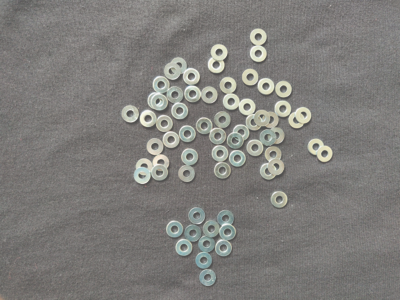circle: (140, 110, 157, 128), (239, 99, 257, 116), (167, 86, 184, 104), (250, 29, 268, 46), (134, 168, 151, 185), (136, 159, 153, 176), (153, 155, 170, 172), (167, 221, 184, 238), (176, 240, 193, 257), (147, 139, 164, 156), (200, 270, 217, 287), (196, 253, 213, 270), (185, 225, 202, 242), (189, 208, 206, 225), (179, 166, 196, 183), (182, 149, 199, 166), (163, 132, 180, 149), (180, 126, 197, 143), (212, 146, 229, 163), (230, 150, 247, 167), (271, 192, 288, 209), (122, 106, 139, 123), (172, 103, 189, 120), (247, 140, 264, 157), (254, 110, 271, 127), (246, 114, 263, 131), (233, 125, 250, 142), (223, 94, 240, 111), (220, 77, 237, 94), (208, 57, 225, 74), (211, 44, 228, 61), (201, 87, 218, 104), (184, 69, 201, 86), (164, 63, 181, 80), (151, 94, 168, 111), (148, 93, 165, 110), (153, 77, 170, 94), (275, 101, 292, 118), (276, 81, 293, 98), (243, 69, 260, 86), (151, 165, 169, 181), (265, 147, 283, 163), (250, 46, 268, 62), (199, 236, 215, 253), (204, 221, 220, 238), (216, 240, 232, 257), (220, 225, 237, 241), (218, 211, 235, 227), (197, 118, 213, 135), (210, 128, 226, 145), (215, 163, 231, 180), (261, 164, 277, 181), (268, 159, 285, 175), (157, 116, 173, 133), (260, 130, 277, 146), (289, 112, 305, 129), (185, 86, 201, 103), (171, 58, 188, 74), (258, 79, 275, 95), (309, 139, 325, 156), (317, 146, 333, 163), (227, 133, 244, 149), (215, 112, 231, 128), (269, 128, 285, 144), (296, 108, 312, 124), (263, 112, 279, 128)
